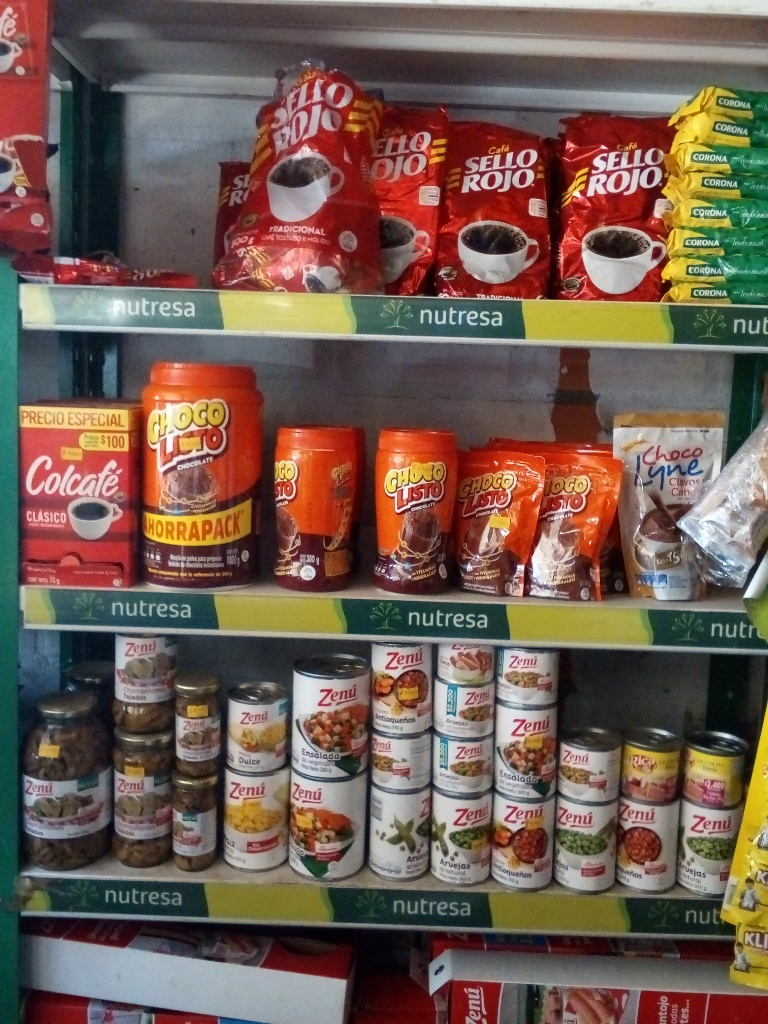COL0170103TRR00100: (131, 354, 270, 594)
